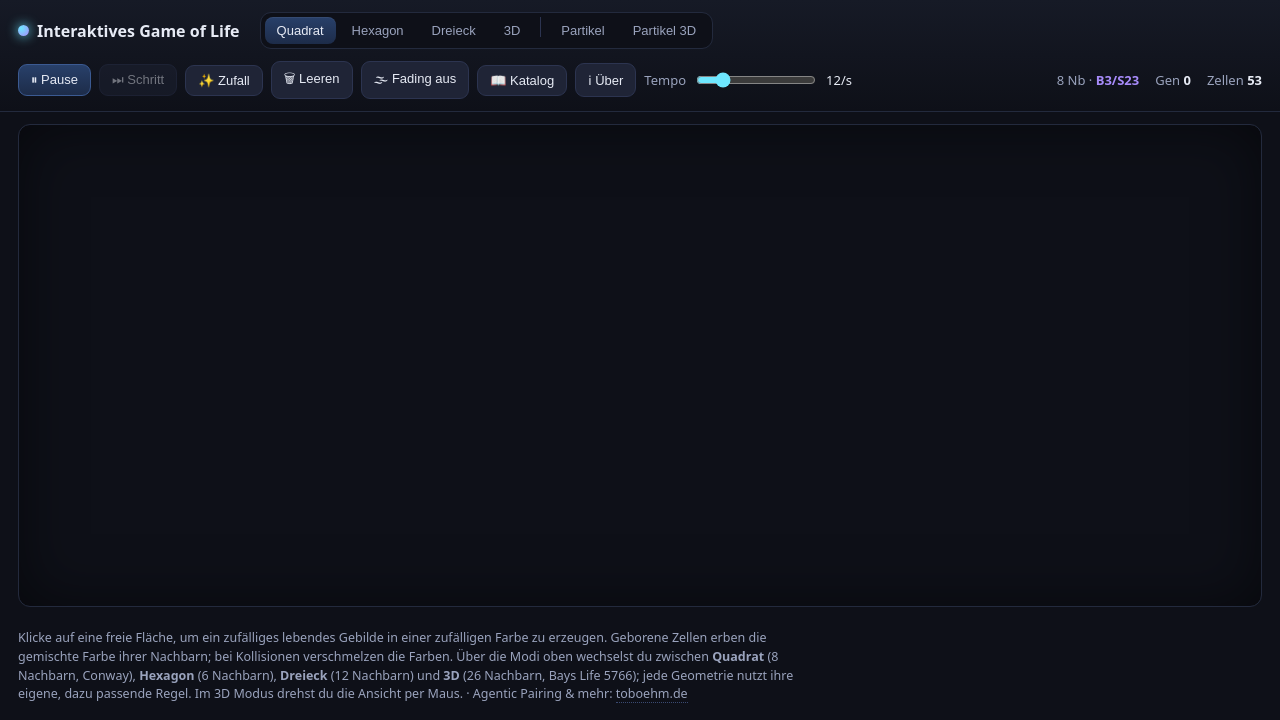
Test case: App UI › adapts the catalog to the current mode
The image size is (1280, 720).
Click the button "Hexagon" at x=378, y=30, box x1=340 y1=17 x2=416 y2=44
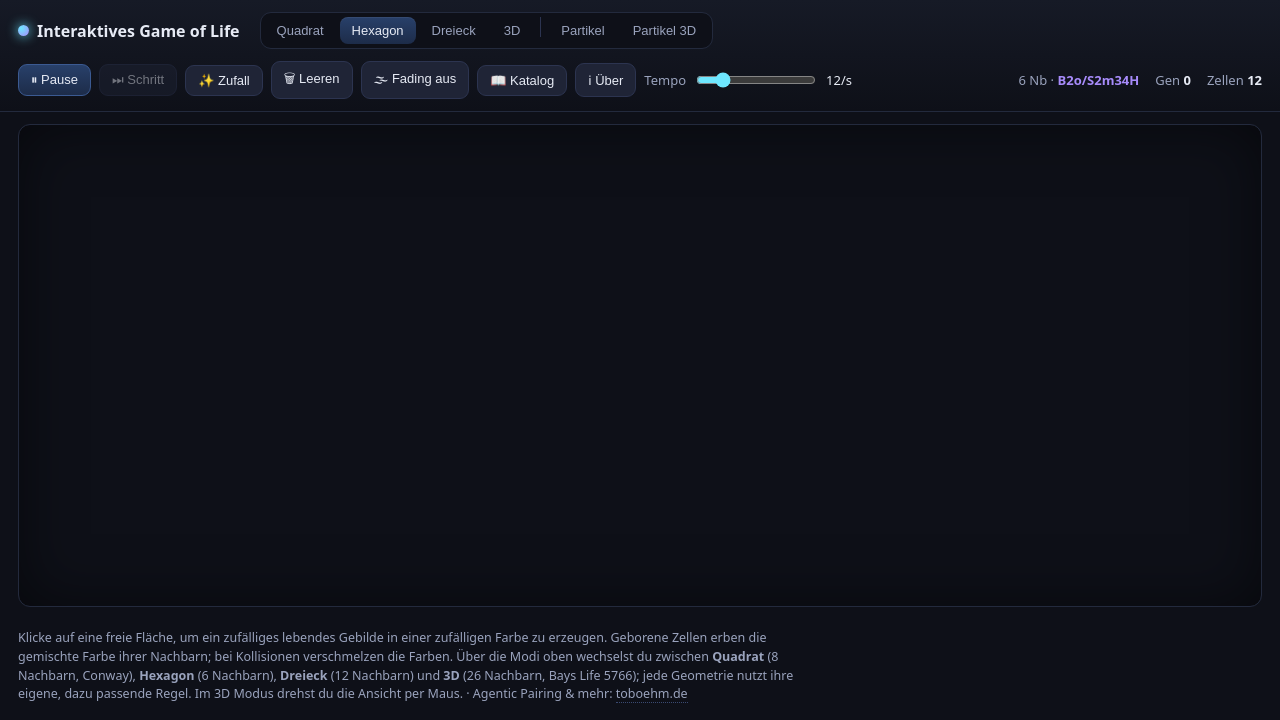
Click the button "📖 Katalog" at x=522, y=80, box x1=477 y1=64 x2=567 y2=96
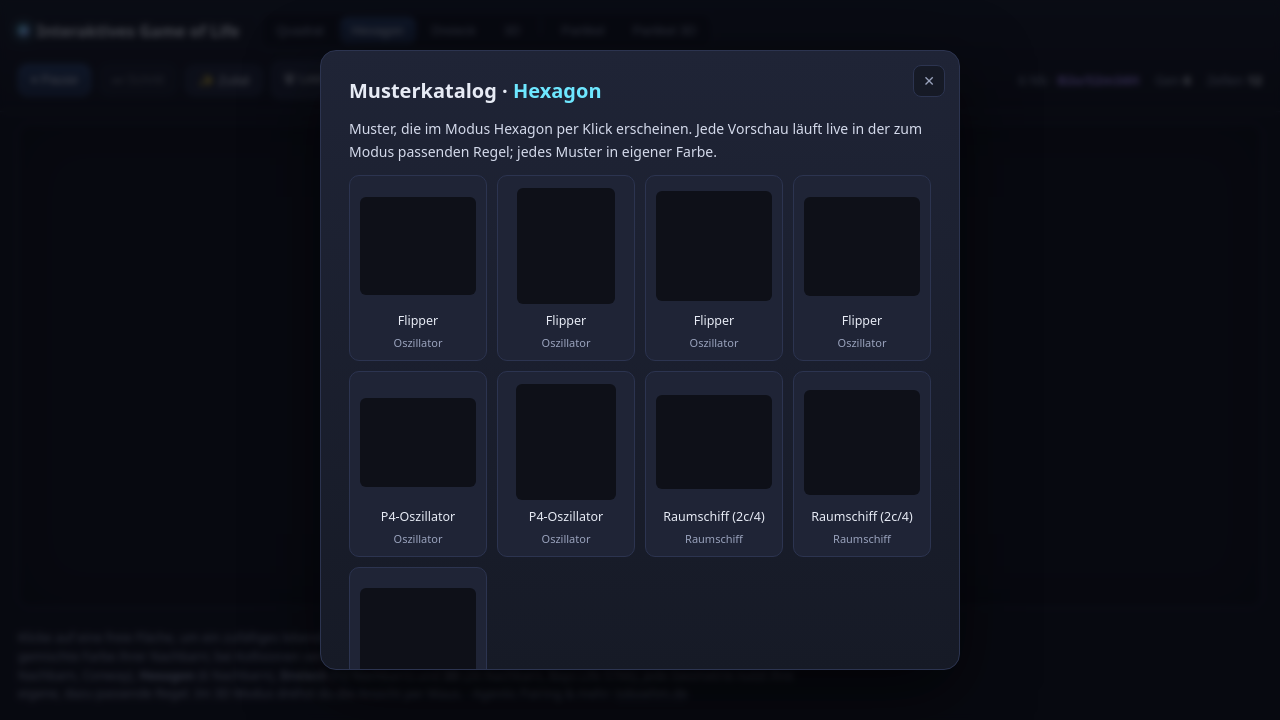
Expected: the text "Hexagon" is shown, x1=513 y1=77 x2=602 y2=104
Expected: the 1st text "Flipper" is shown, x1=398 y1=312 x2=438 y2=329
